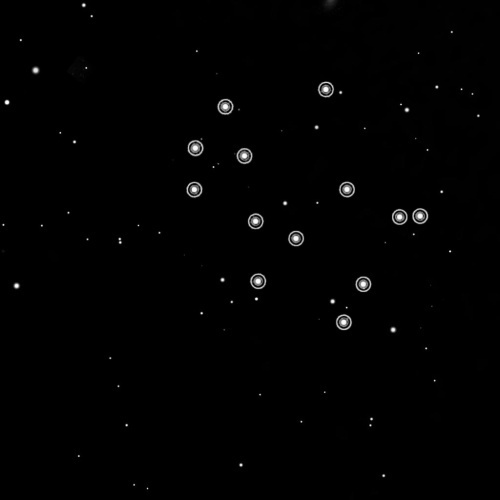gemini: (173, 75, 434, 338)
